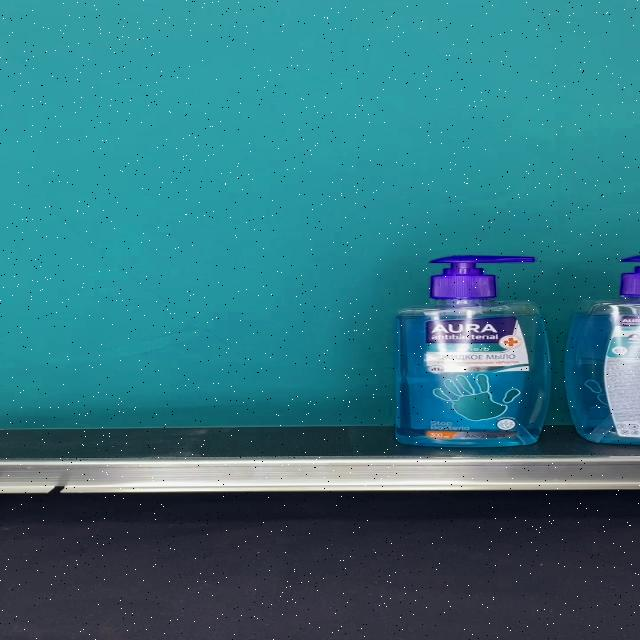Bottle: (396, 254, 552, 448)
Cap: (428, 254, 537, 298)
